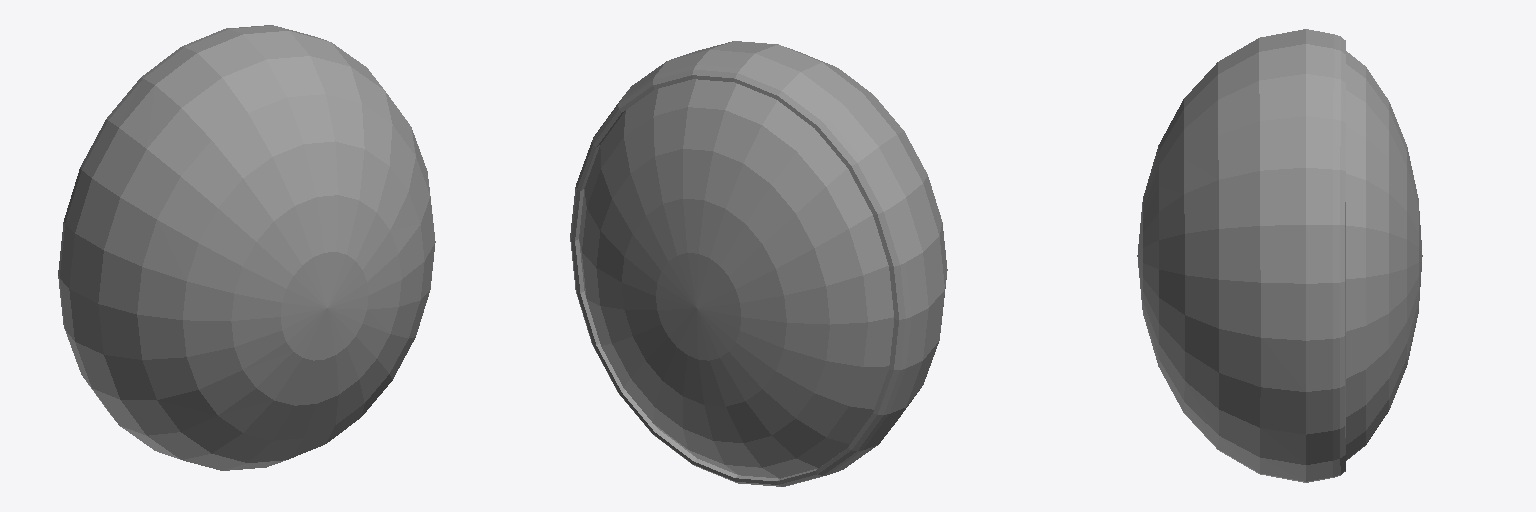
Rendered from stapler_light_front_l.obj.
3 views of the same model, side by side, from view 1: azimuth 30°, elevation 25°; view 2: azimuth 150°, elevation 25°; view 3: azimuth 270°, elevation 25° (orthographic).
Parts seen in each view (by area): view 1: Lampe_l_Sphere.002; view 2: Lampe_l_Sphere.002; view 3: Lampe_l_Sphere.002.
Part boxes in pixels (left/top/right/bottom): Lampe_l_Sphere.002: left=58, top=25, right=435, bottom=470; Lampe_l_Sphere.002: left=570, top=41, right=947, bottom=486; Lampe_l_Sphere.002: left=1137, top=29, right=1422, bottom=482.
Bounding box in the file's own units: 0.5476 × 0.6388 × 0.3891.